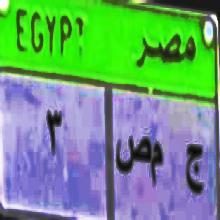3: (45, 104, 63, 165)
jeem: (184, 141, 204, 200)
meem: (150, 142, 165, 190)
saad: (113, 129, 150, 182)
